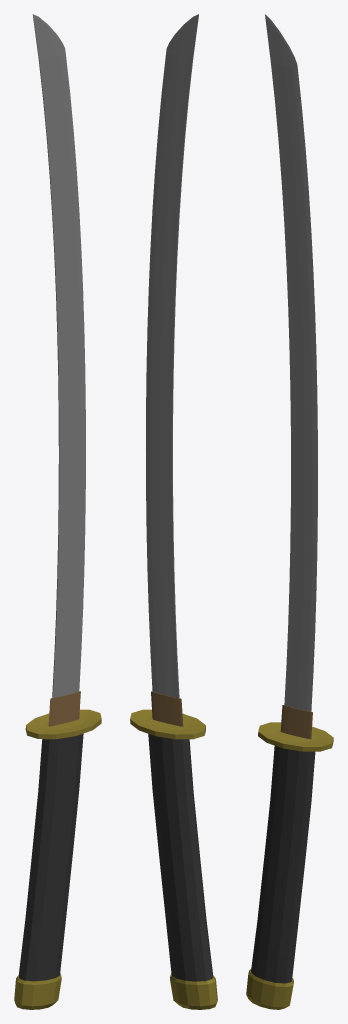
The model's file is Katana.fbx.
The picture shows the model from 3 angles, left to right: view 1: azimuth 30°, elevation 25°; view 2: azimuth 150°, elevation 25°; view 3: azimuth 330°, elevation 25°; orthographic projection.
Parts seen in each view (by area): view 1: Katana; view 2: Katana; view 3: Katana.
Part boxes in pixels (<box>): Katana: <box>14,14,101,1009</box>; Katana: <box>130,14,217,1009</box>; Katana: <box>246,14,333,1009</box>.
Size of the model in its own units: 95.93 by 1066 by 49.19.
